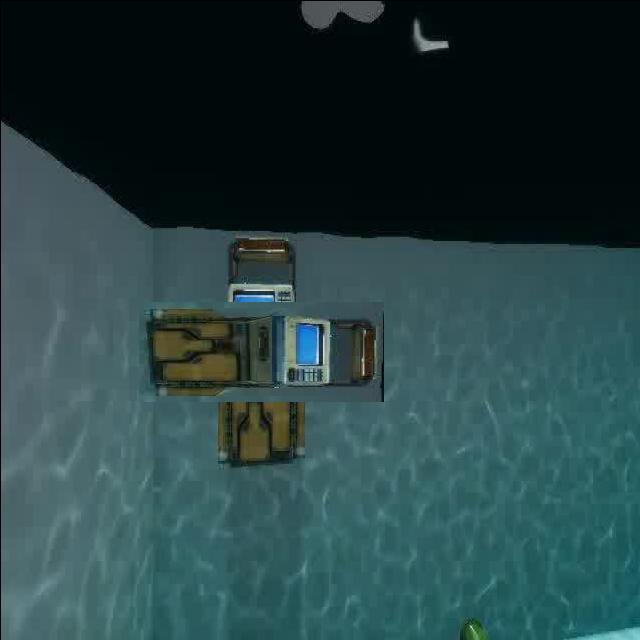Control Panel: (174, 264, 346, 438)
